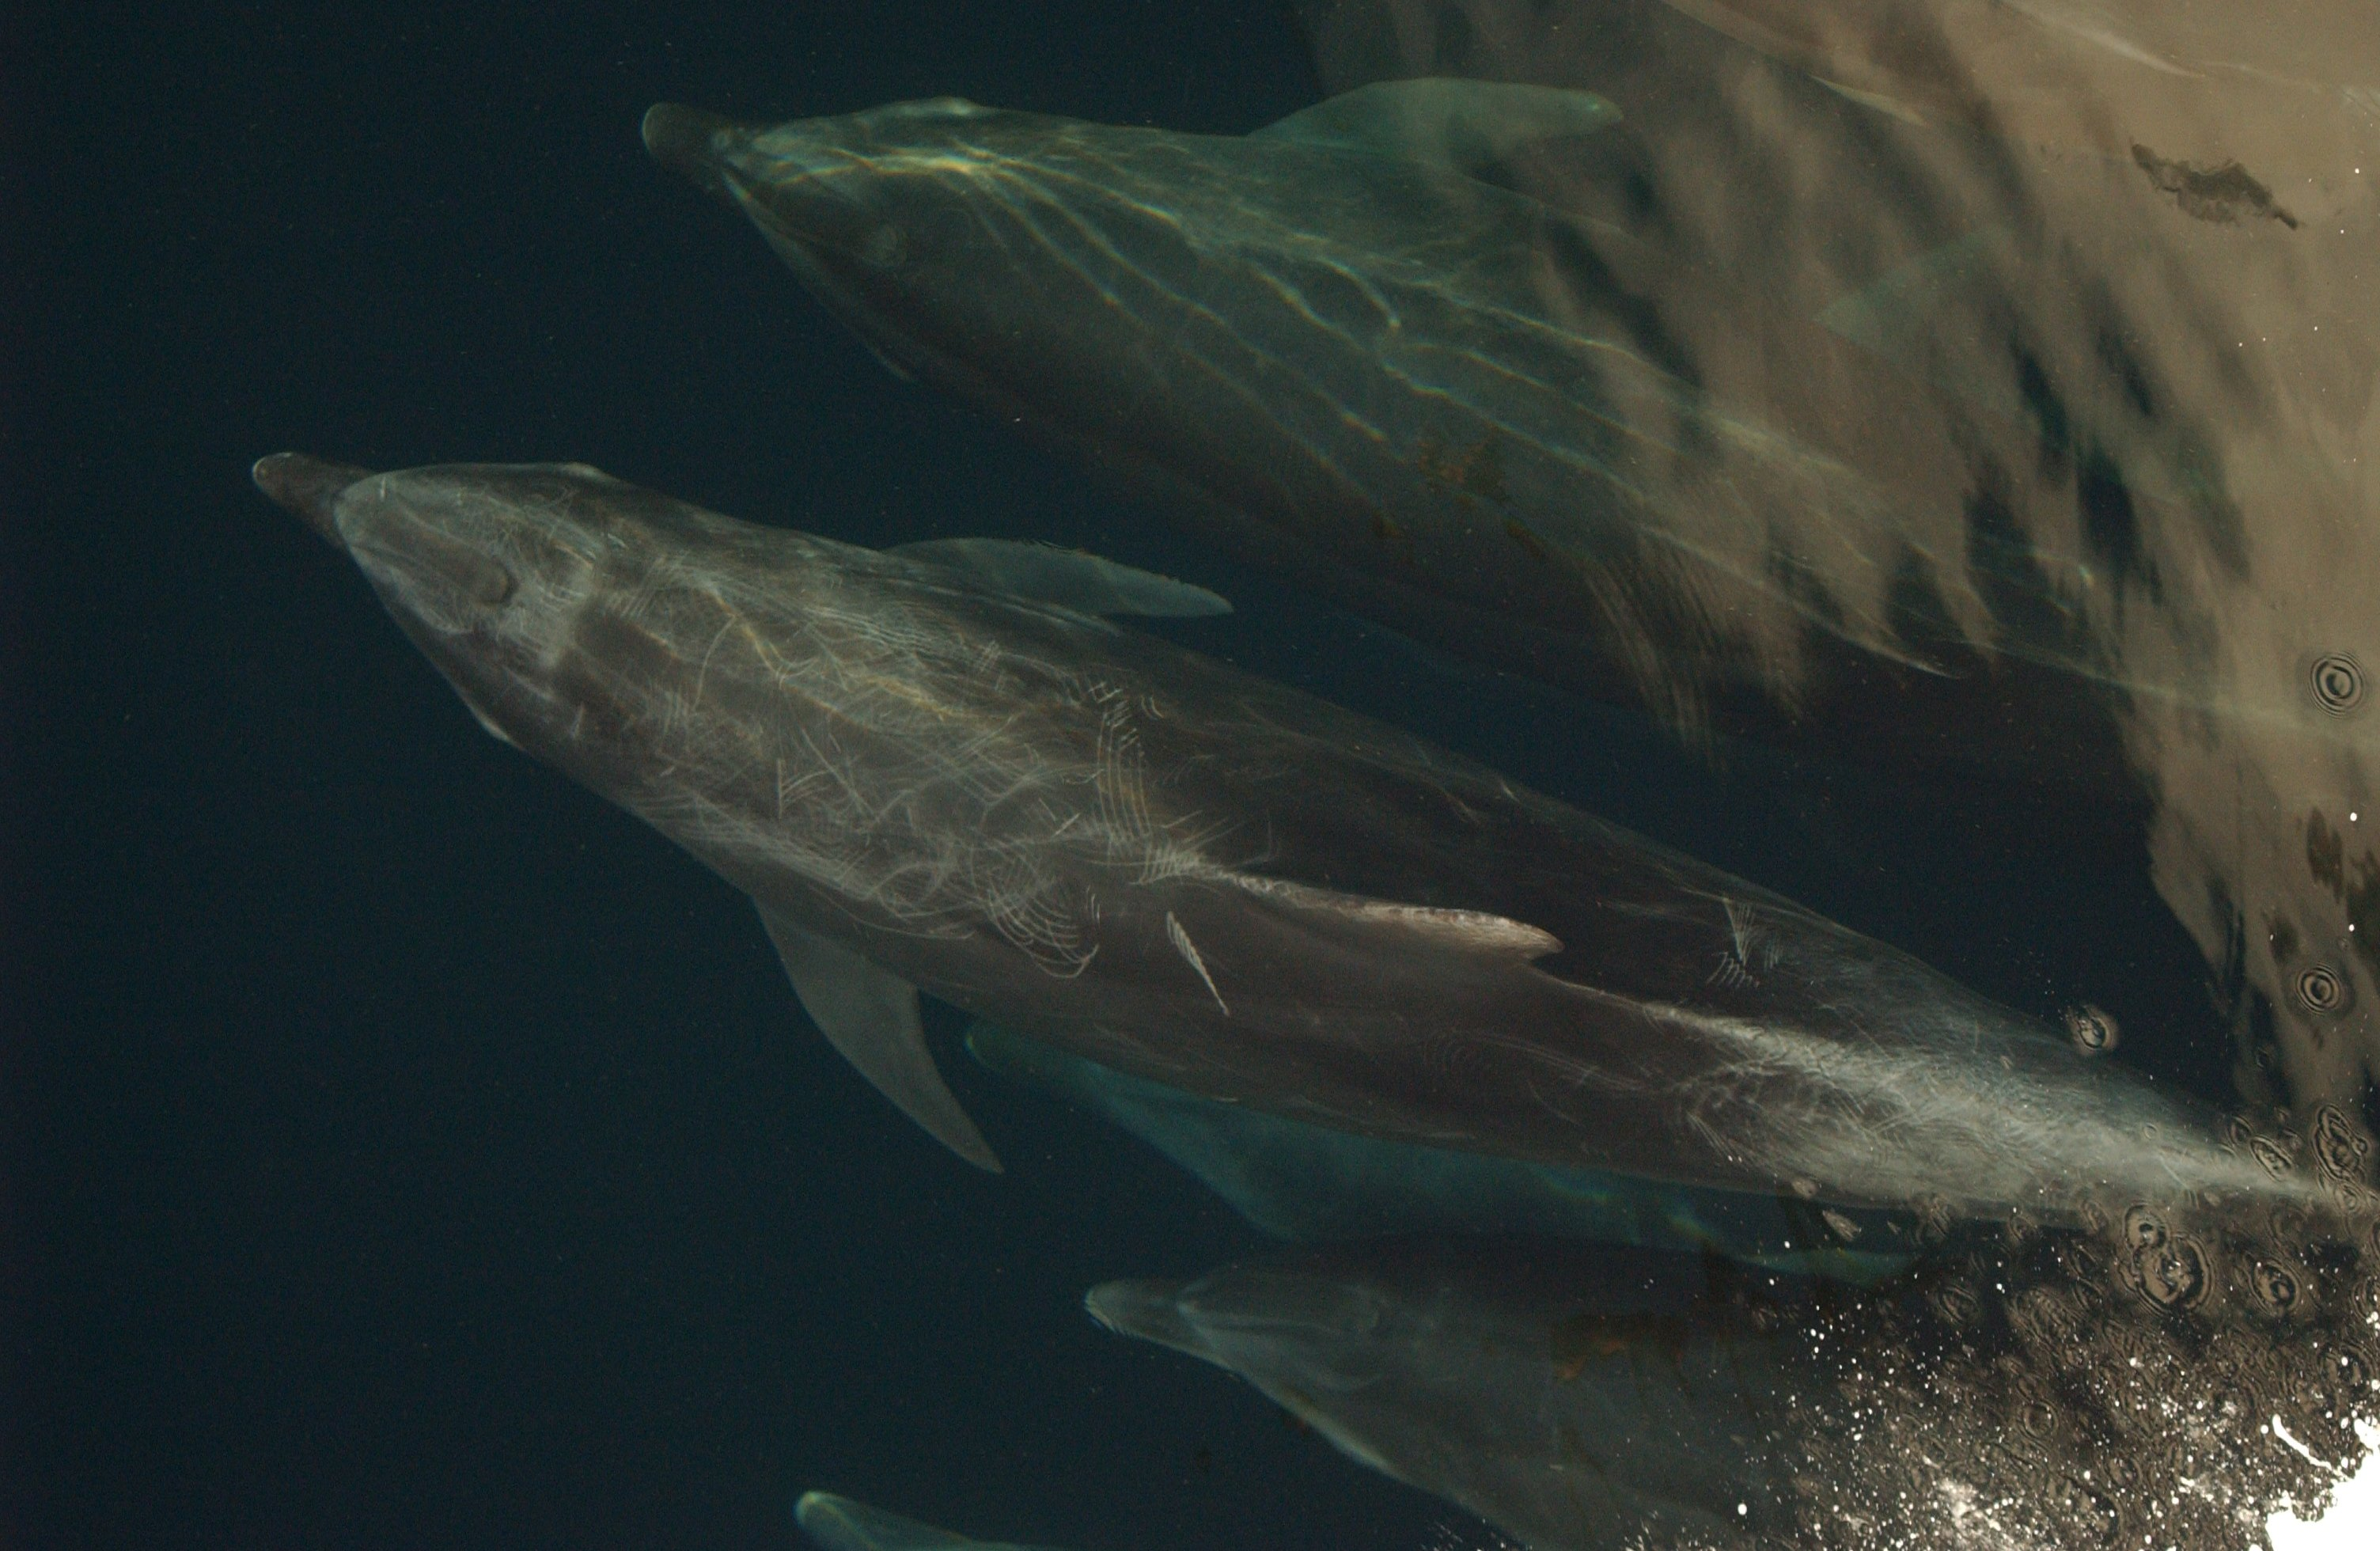dolphin: (241, 448, 2227, 1187), (637, 83, 2269, 737), (1082, 1254, 1839, 1539)
